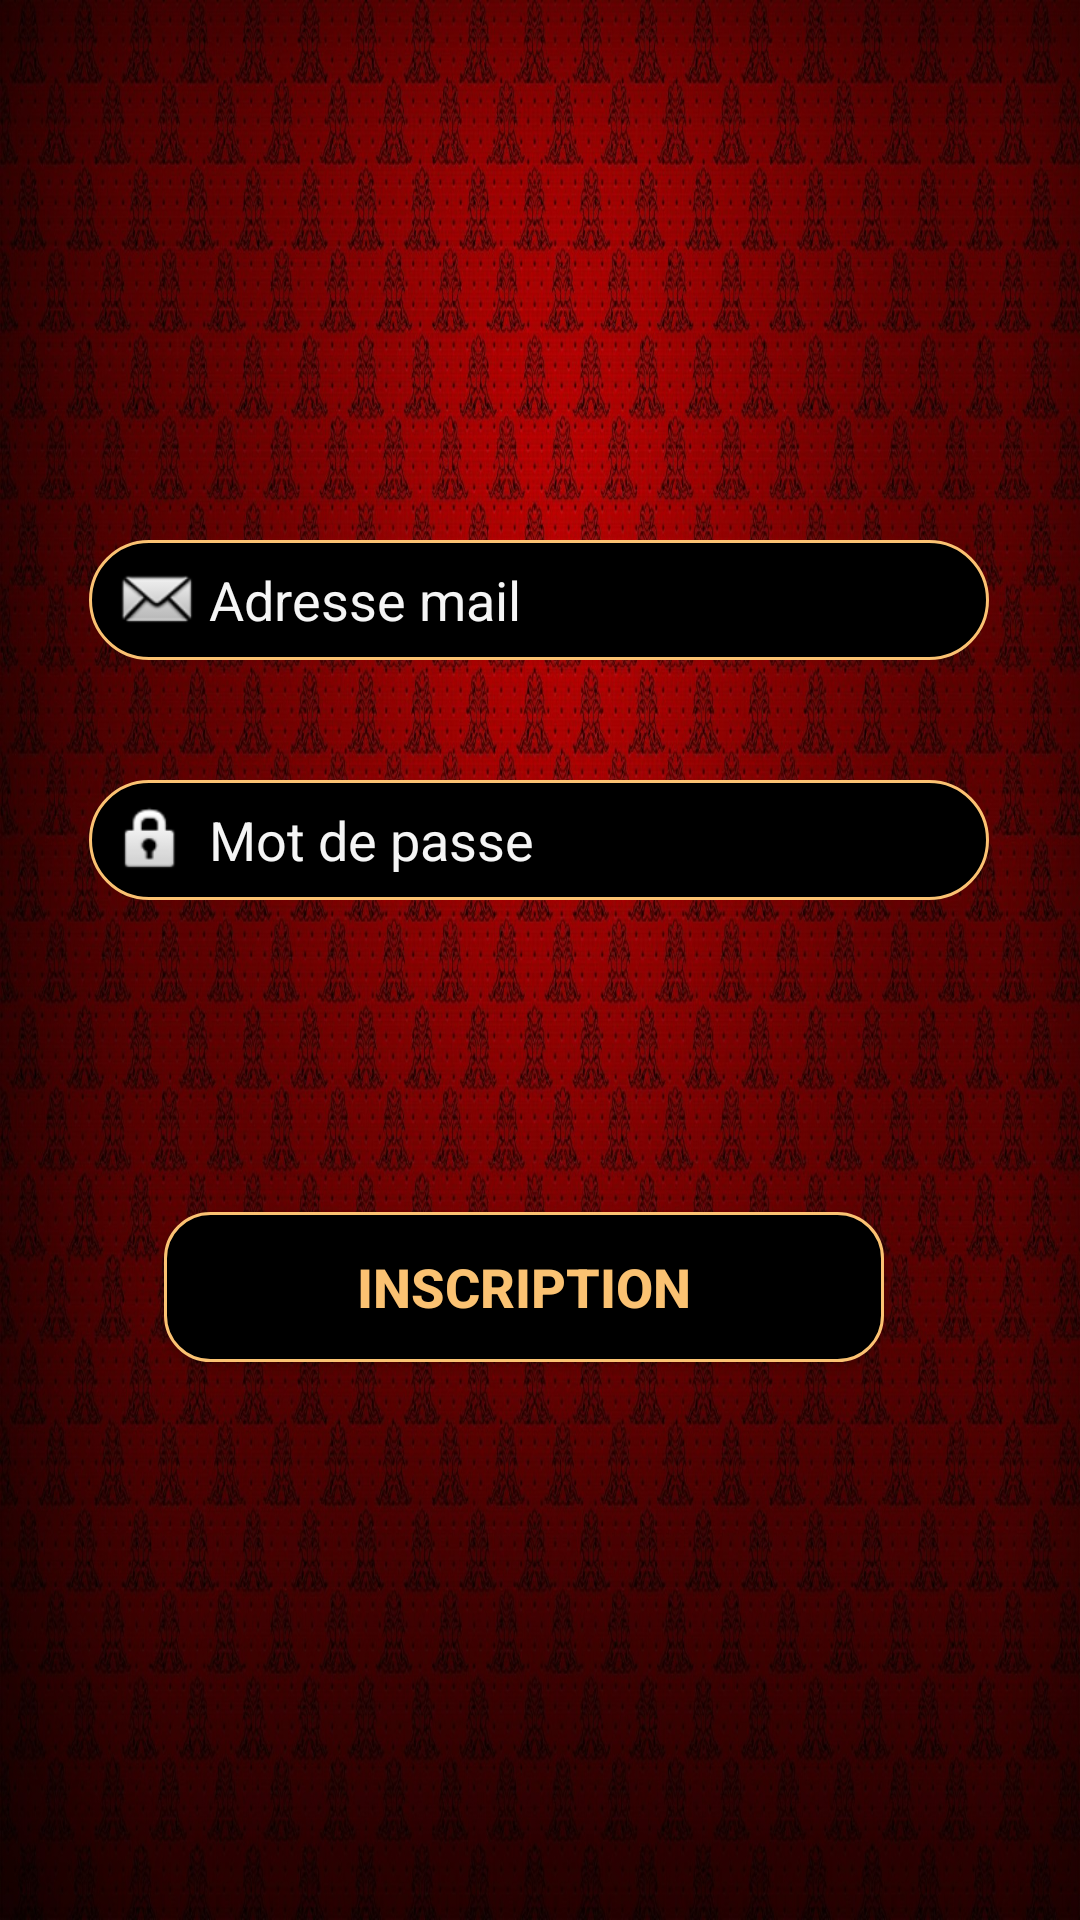

Icons on this 1080*1920 Android screen, each with the point to tap as (x,y):
Petit Cadenas: (149,838)
Petite enveloppe: (157,599)
